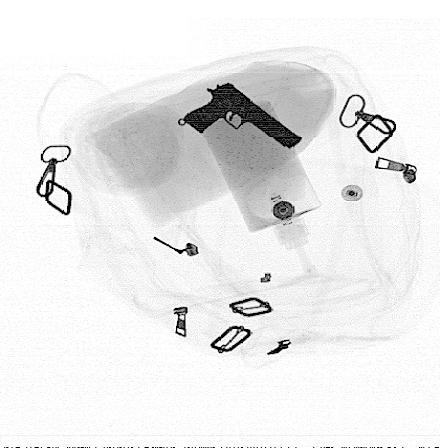Gun: (182, 82, 303, 151)
